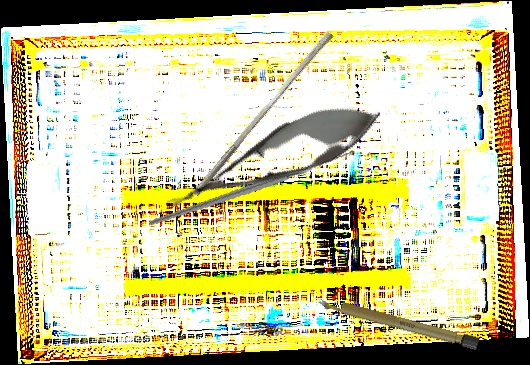Hook Surgical: (148, 103, 356, 263)
Micro Scissor: (157, 85, 391, 232)
Pusher: (192, 26, 334, 202)
Scalpel Handle: (315, 294, 482, 351)
